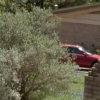Tree: (6, 4, 77, 97)
